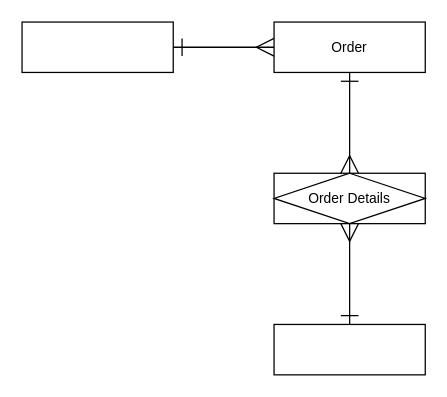
This 447x397 diagram has some shape labels left out. Each missing label, with the centre of its shape:
Customer: pixel 97 46
Product: pixel 349 349
